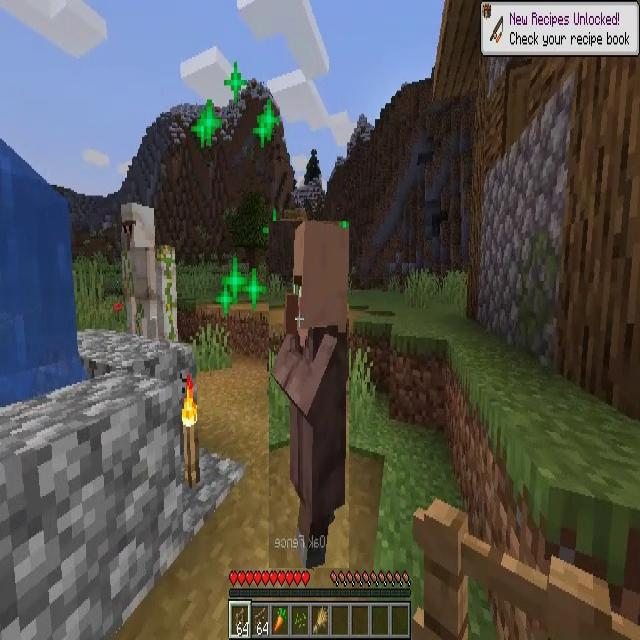people: (270, 221, 350, 568), (121, 202, 180, 339)
